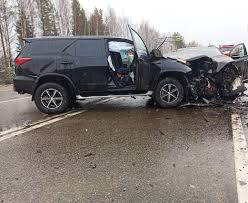car: (17, 29, 246, 121)
